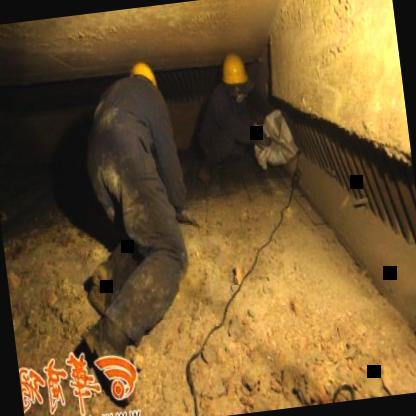helmet: (216, 49, 254, 104), (122, 54, 160, 106)
